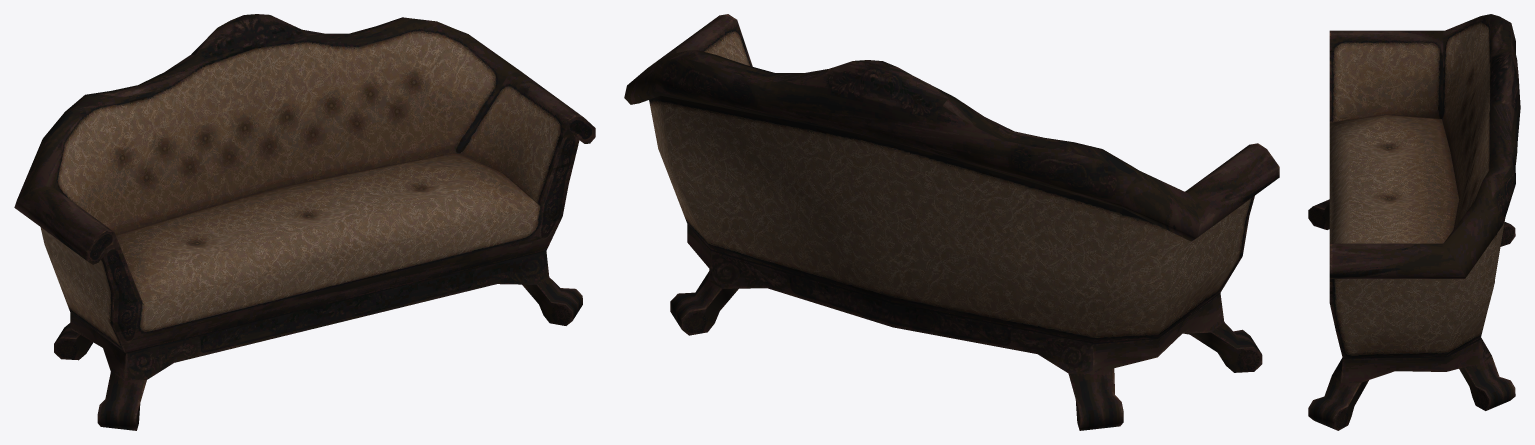
The model's file is sofa_alt_old.dae.
3 views of the same model, side by side, from view 1: azimuth 30°, elevation 25°; view 2: azimuth 150°, elevation 25°; view 3: azimuth 270°, elevation 25° (orthographic). The views are drawn at different scales.
Visible parts, largest first — view 1: polySurface2; view 2: polySurface2; view 3: polySurface2.
Boxes of the visible parts, box(x1,y1,x2,y2) form: polySurface2: box(14, 14, 595, 430); polySurface2: box(624, 14, 1279, 430); polySurface2: box(1308, 14, 1520, 430).
Bounding box in the file's own units: 2.4 × 1.29 × 0.9348.
Materials: 1 (1 with a texture image).
